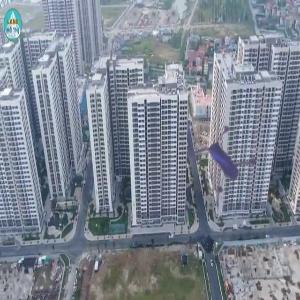drone: (171, 113, 273, 215)
